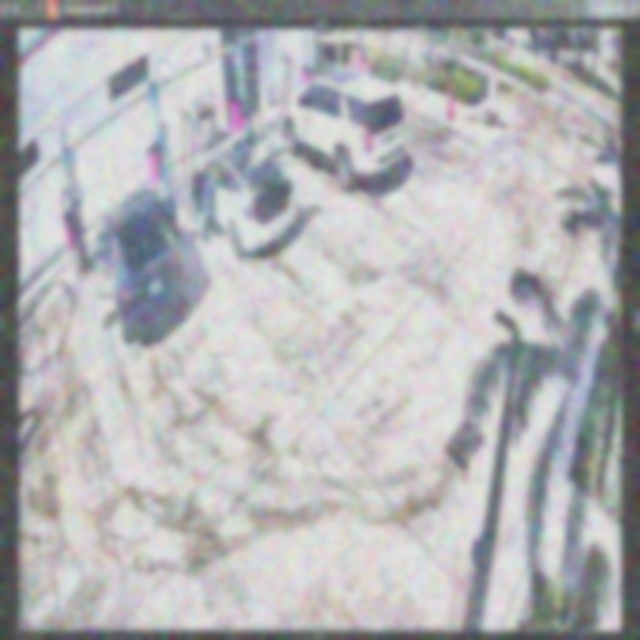Car: (284, 76, 409, 194), (192, 130, 298, 261), (101, 187, 180, 346)
